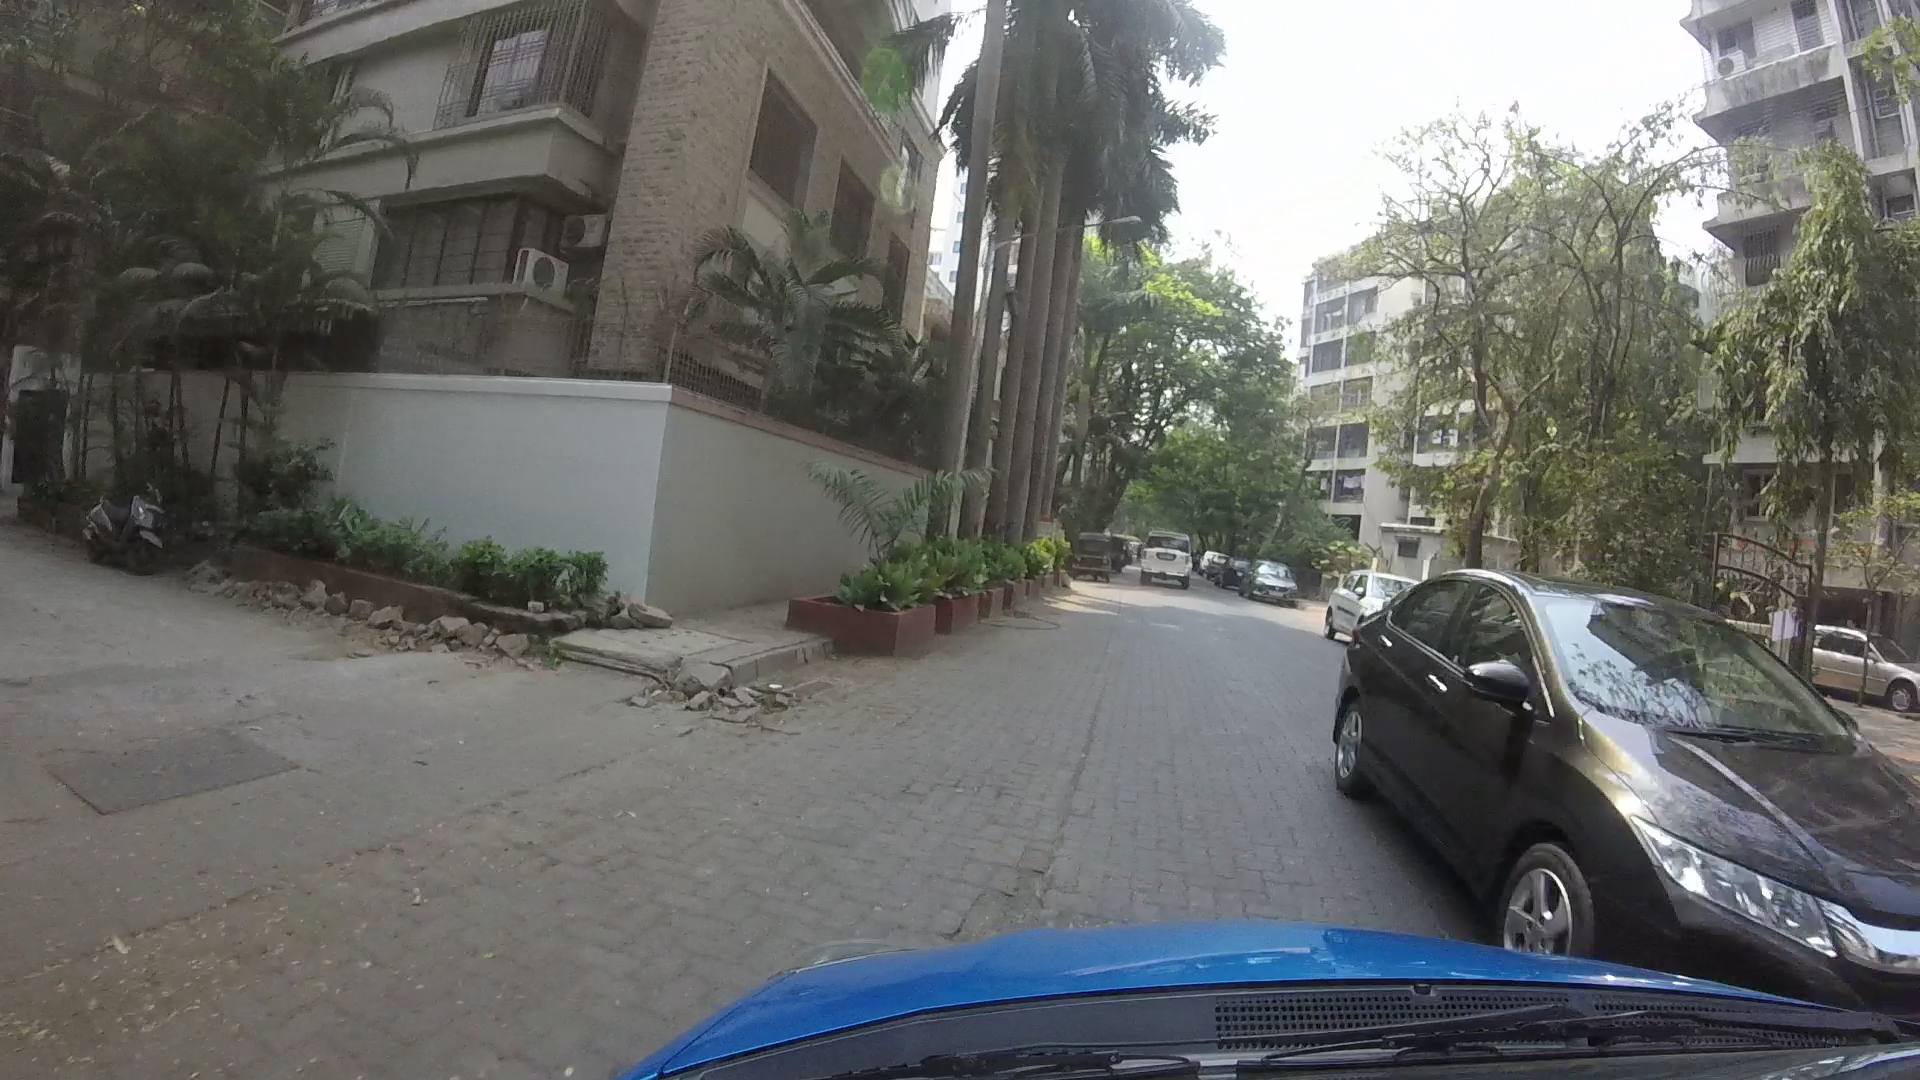car: (1319, 578, 1920, 996), (1284, 560, 1402, 640)
